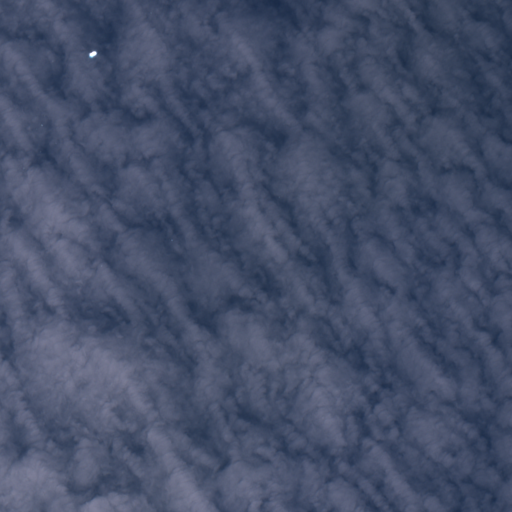Iceberg: (89, 51, 96, 57)
